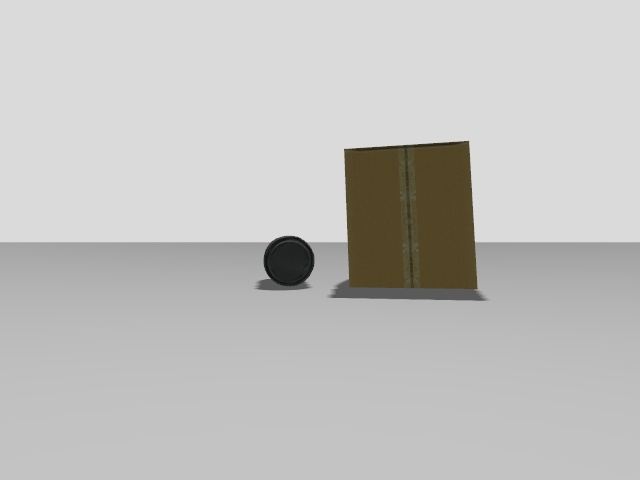canette: (264, 236, 314, 286)
carton: (345, 142, 477, 289)
